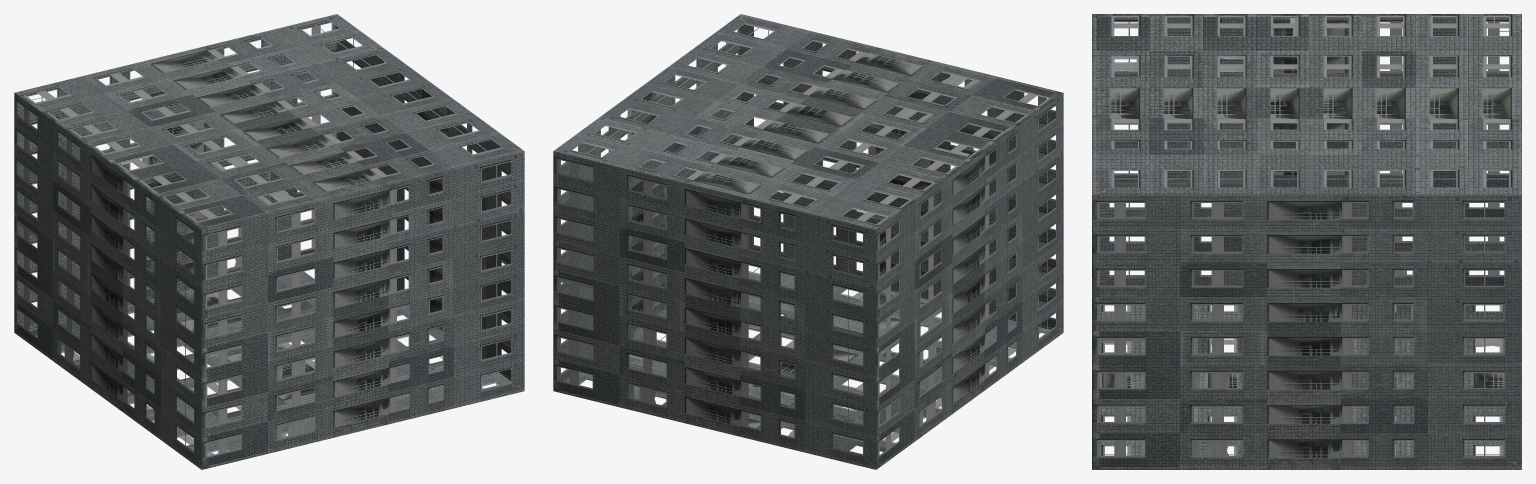
Rendered from BagSS07mid_0.fbx.
The picture shows the model from 3 angles, left to right: view 1: azimuth 30°, elevation 25°; view 2: azimuth 150°, elevation 25°; view 3: azimuth 270°, elevation 25°; orthographic projection. The views are drawn at different scales.
Parts seen in each view (by area): view 1: Box02; view 2: Box02; view 3: Box02.
Part boxes in pixels (x1=…): Box02: x1=14, y1=14, x2=524, y2=469; Box02: x1=553, y1=14, x2=1063, y2=469; Box02: x1=1092, y1=14, x2=1521, y2=469.
Bounding box in the file's own units: 31.58 × 22.44 × 31.75.
